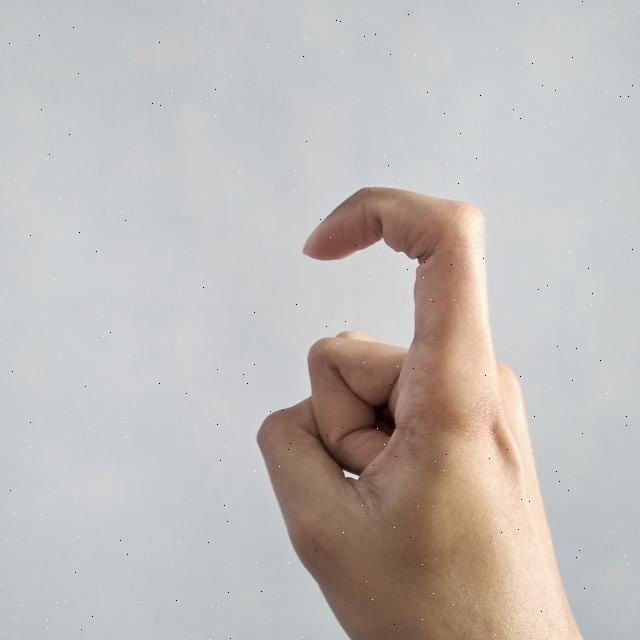X: (240, 173, 588, 640)
